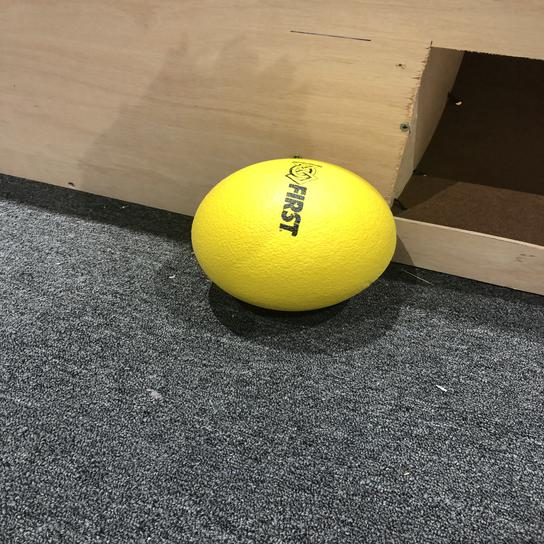ball: (186, 153, 405, 315)
